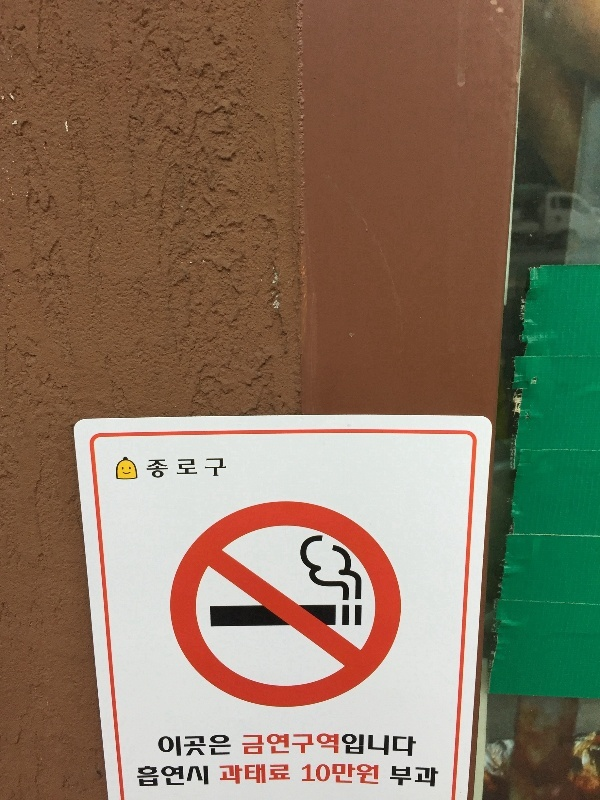text: (401, 733, 417, 758), (353, 733, 368, 758), (369, 733, 384, 758), (385, 733, 400, 758), (193, 766, 209, 788), (161, 734, 176, 757), (177, 734, 192, 757), (193, 734, 208, 757), (209, 734, 224, 757), (257, 733, 272, 756), (273, 733, 288, 756), (289, 733, 304, 756), (305, 733, 320, 756), (321, 733, 336, 756), (305, 763, 320, 786), (321, 763, 336, 786), (337, 763, 352, 786), (353, 763, 368, 786), (145, 766, 160, 788), (161, 766, 176, 788), (177, 766, 192, 788), (401, 766, 416, 788), (417, 766, 432, 788), (161, 458, 176, 479), (177, 458, 192, 479), (193, 458, 208, 479), (209, 458, 224, 479), (225, 764, 240, 785), (241, 764, 256, 785), (257, 764, 272, 785), (273, 764, 288, 785), (243, 733, 256, 756), (147, 458, 160, 479), (342, 733, 352, 758), (369, 763, 379, 786), (391, 766, 400, 788), (225, 734, 232, 757), (138, 766, 144, 788), (433, 766, 439, 788), (219, 764, 224, 785), (158, 734, 160, 757), (337, 733, 339, 756), (303, 763, 304, 786), (225, 458, 226, 479), (289, 764, 290, 785)
